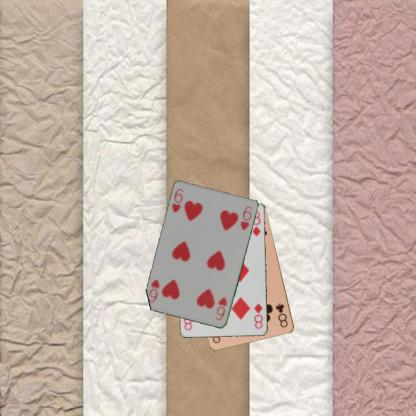6h: (169, 186, 185, 214), (213, 294, 228, 322)
8c: (274, 300, 290, 329)
8d: (251, 301, 264, 330)
